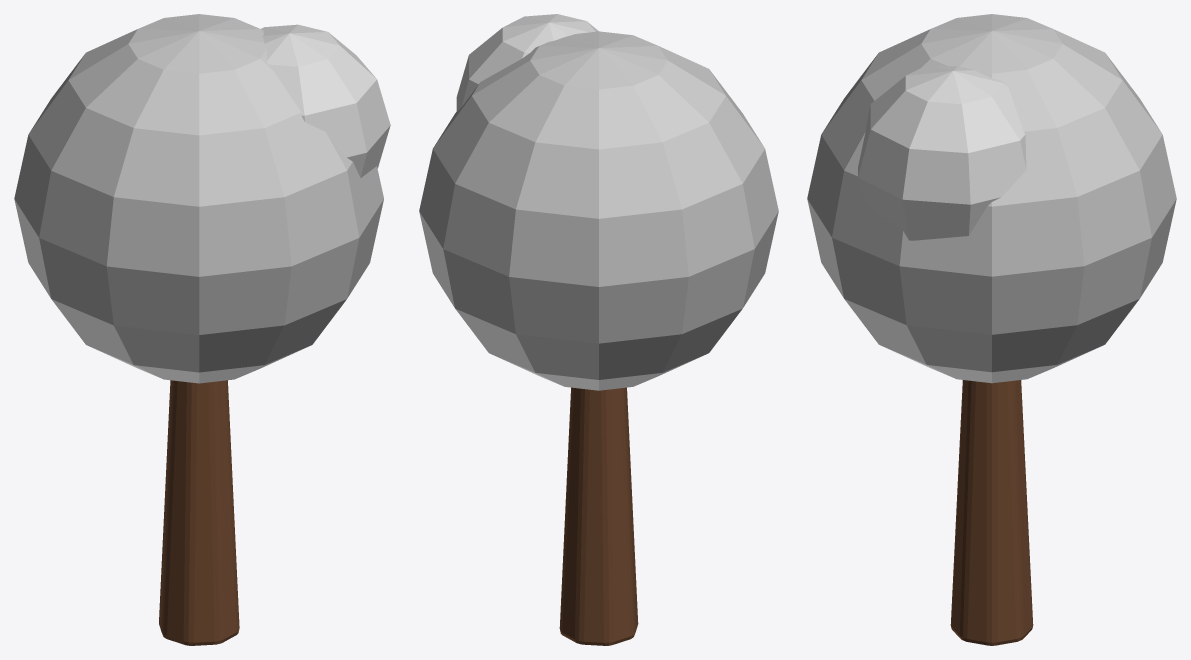
The model's file is tree_lollipop.glb.
3 views of the same model, side by side, from view 1: azimuth 30°, elevation 25°; view 2: azimuth 150°, elevation 25°; view 3: azimuth 270°, elevation 25° (orthographic). The views are drawn at different scales.
Visible parts, largest first — view 1: tree_lollipop; view 2: tree_lollipop; view 3: tree_lollipop.
Boxes of the visible parts, x1,y1,x2,y2 form: tree_lollipop: [14, 14, 390, 645]; tree_lollipop: [419, 14, 778, 645]; tree_lollipop: [807, 14, 1176, 645].
Size of the model in its own units: 1.9 by 3.4 by 1.9.
